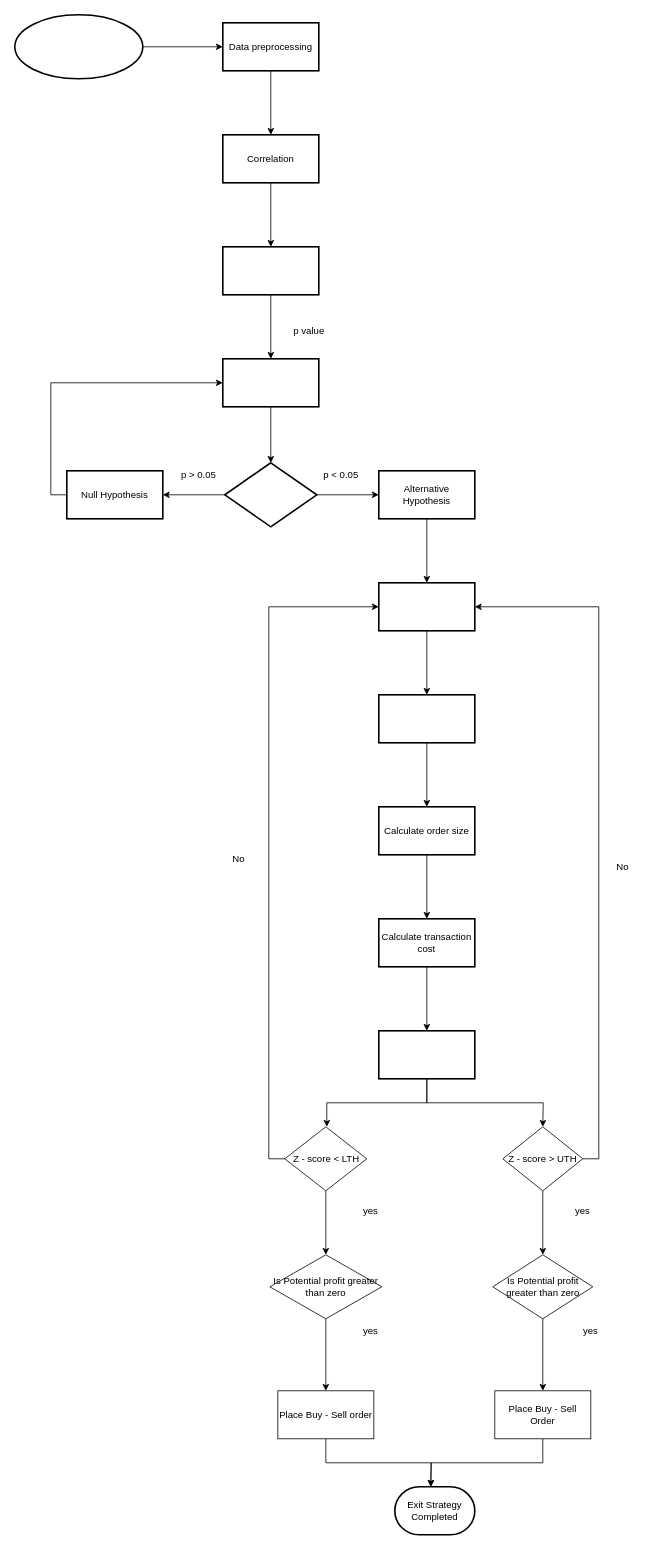
Image size: 660x1549. Some labels were removed from this diagram. Each missing label, with the centre of its shape:
"ADF" belongs at pixel 270 270.
"Calculate Profit potential" belongs at pixel 426 1054.
"Cointegration" belongs at pixel 270 382.
"Input data from the user" belongs at pixel 78 46.
"Quoted spread" belongs at pixel 426 718.
"Threshold value" belongs at pixel 270 494.
"Z - Score" belongs at pixel 426 606.
